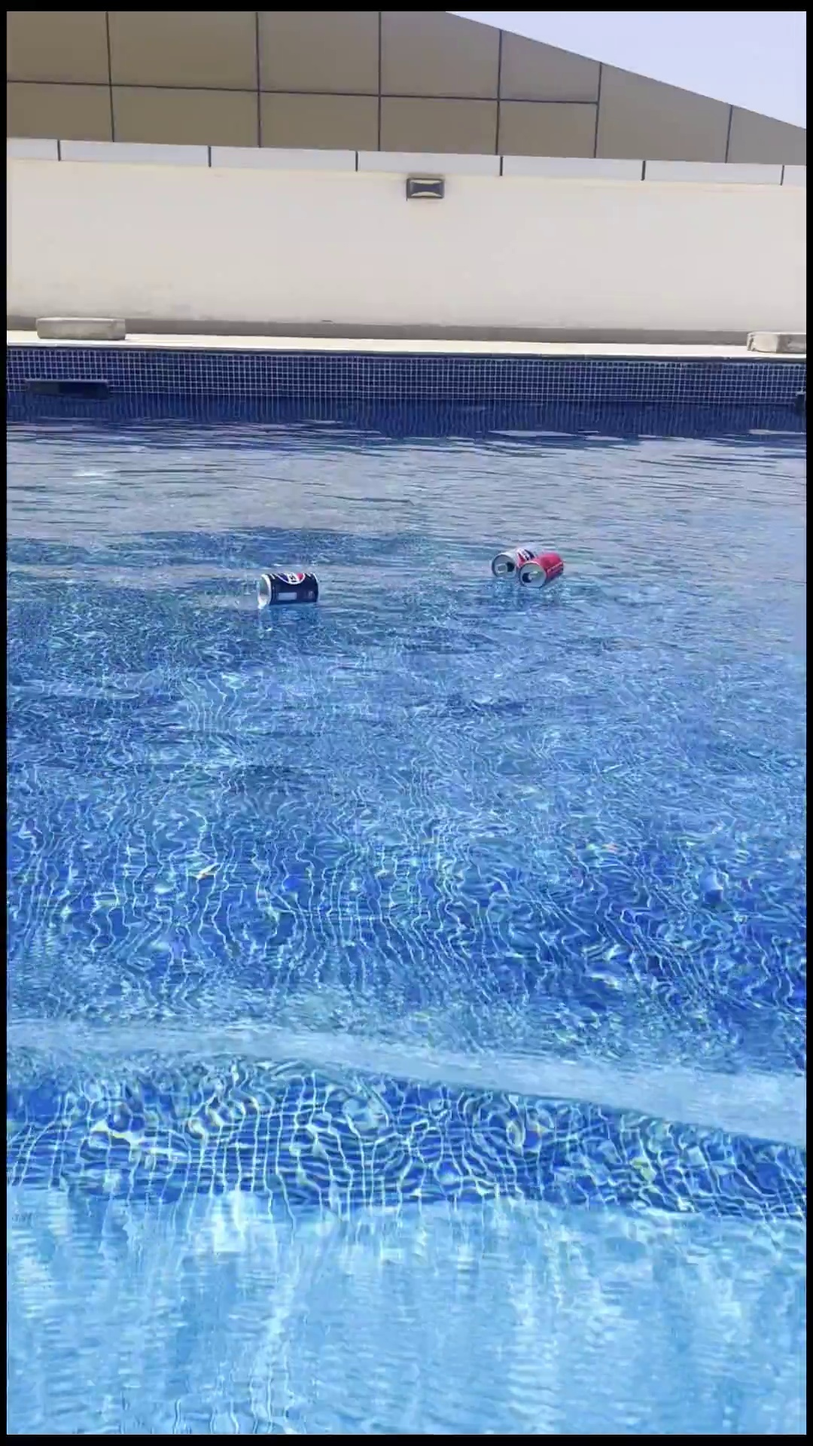debris: (253, 554, 317, 627), (486, 522, 532, 594), (515, 546, 562, 602)
